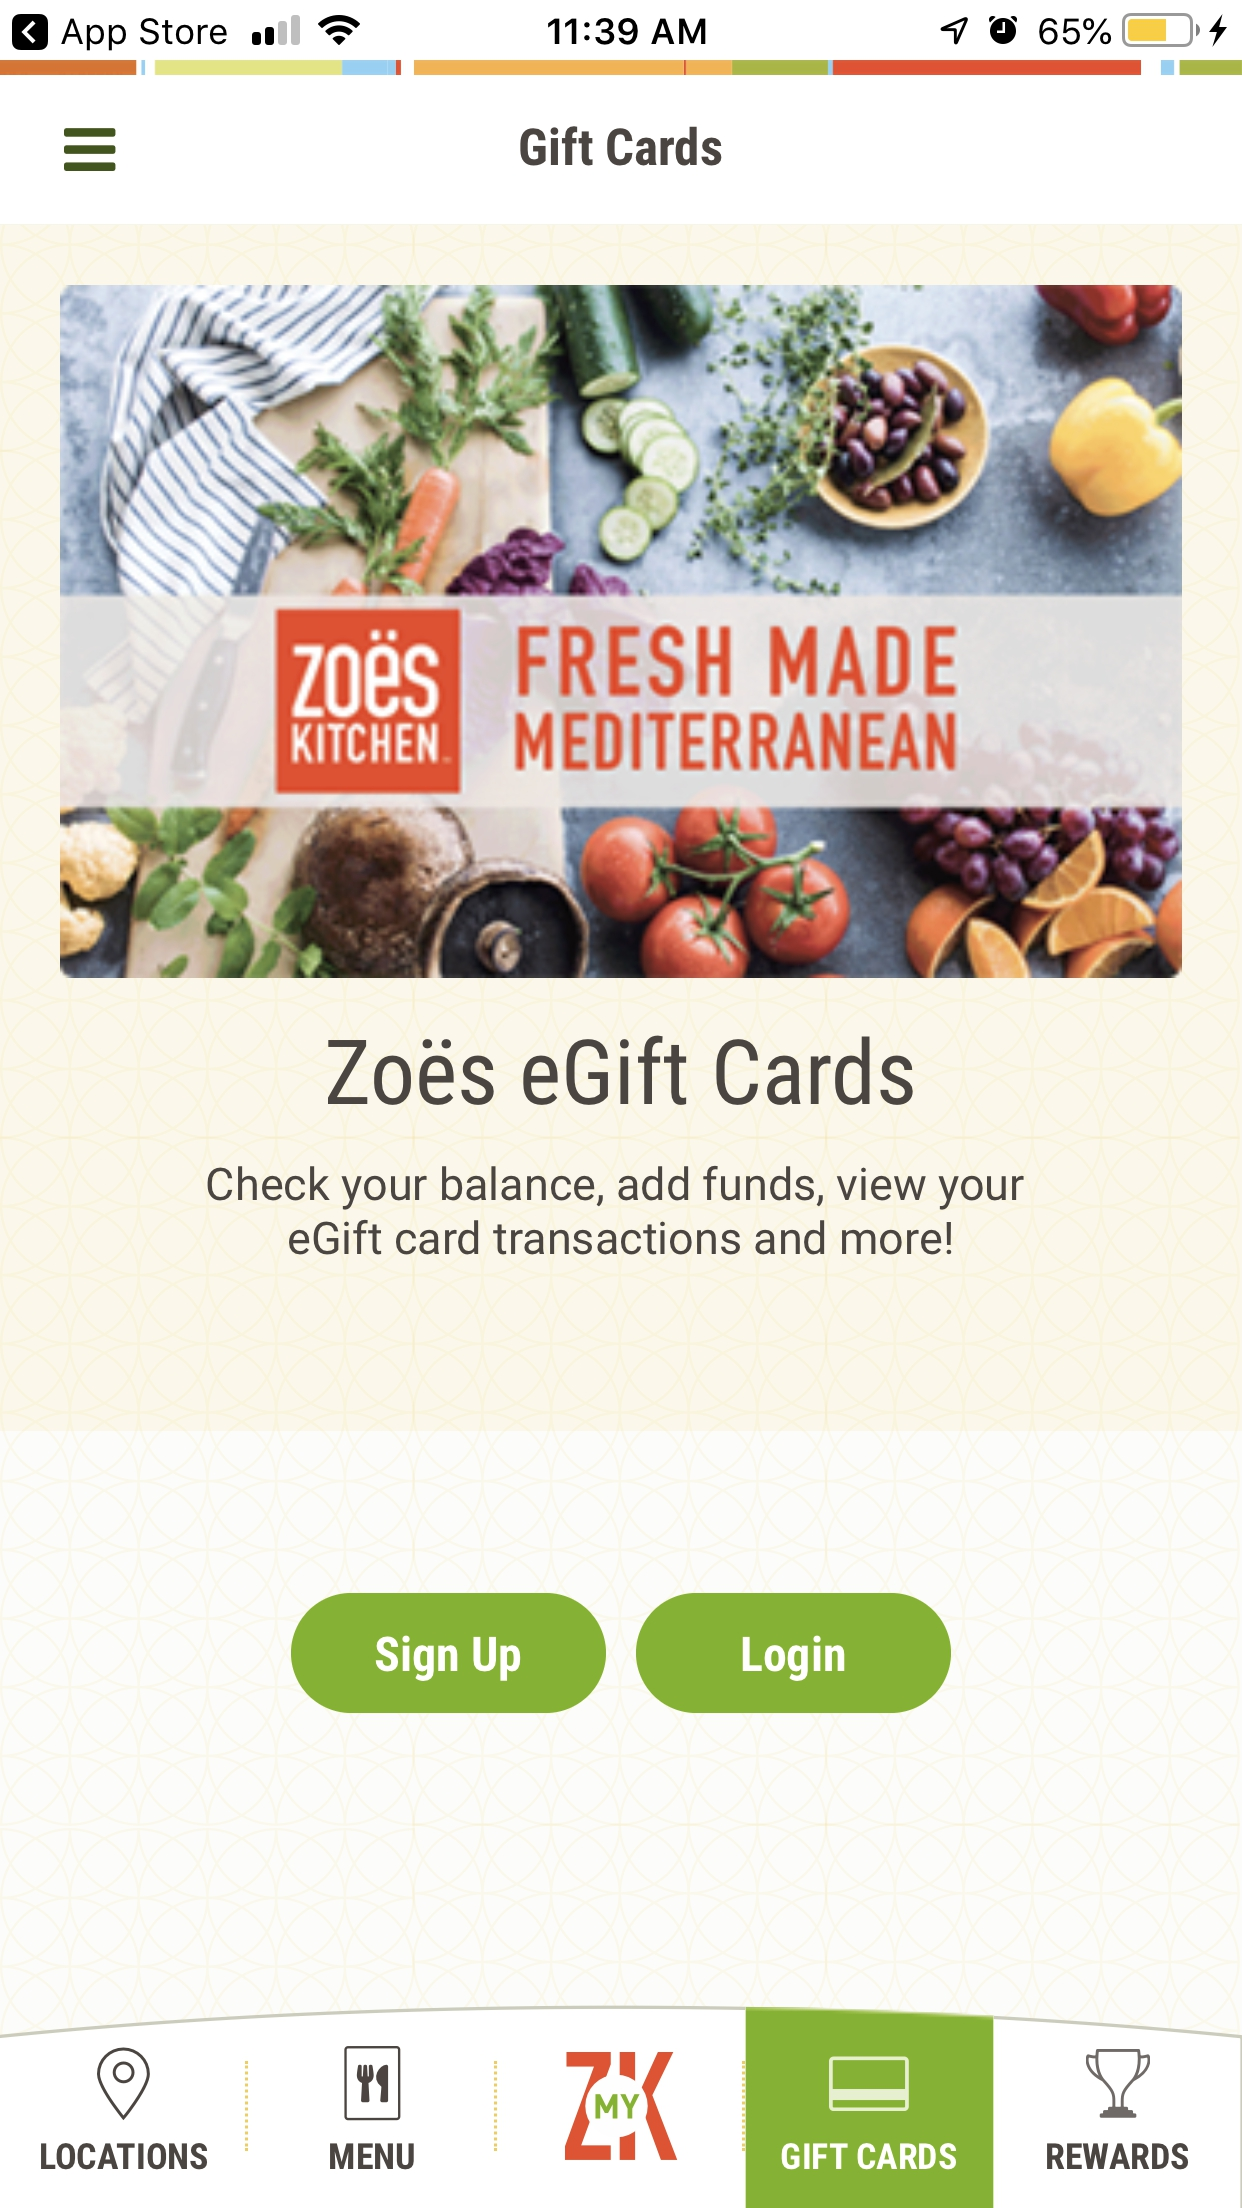Icon: (828, 2055, 910, 2112), (97, 2047, 152, 2122), (64, 127, 118, 173)
Image: (61, 285, 1183, 980), (274, 608, 463, 798), (564, 2050, 678, 2161), (1084, 2047, 1151, 2119), (344, 2046, 402, 2122)
Text: (206, 1165, 1027, 1257), (514, 623, 958, 775), (328, 1034, 914, 1107), (519, 124, 723, 167), (781, 2141, 957, 2172), (39, 2141, 209, 2170), (1046, 2141, 1189, 2172), (331, 2141, 416, 2170)
TextButton: (635, 1592, 952, 1715), (291, 1592, 608, 1714)
UpperTaskBar: (2, 2, 1242, 53)
